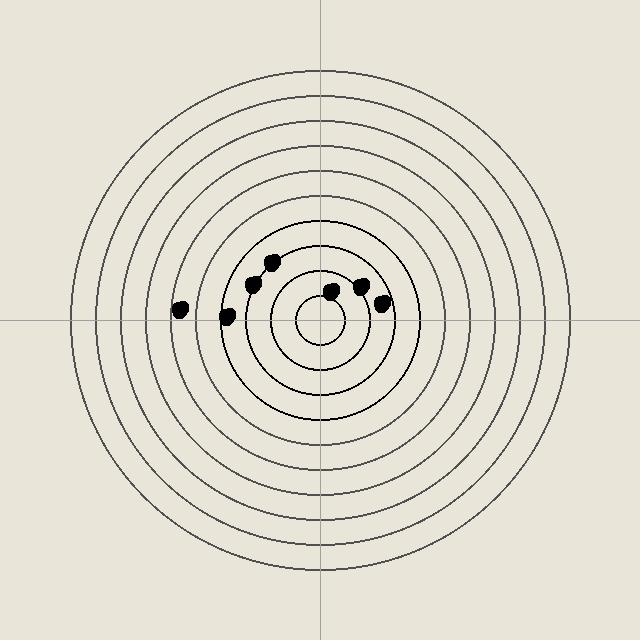horizontal_scatter: (242, 274, 262, 294), (216, 306, 236, 326), (169, 299, 189, 319), (350, 276, 370, 296), (371, 293, 391, 313), (261, 252, 281, 272), (320, 281, 340, 301)
